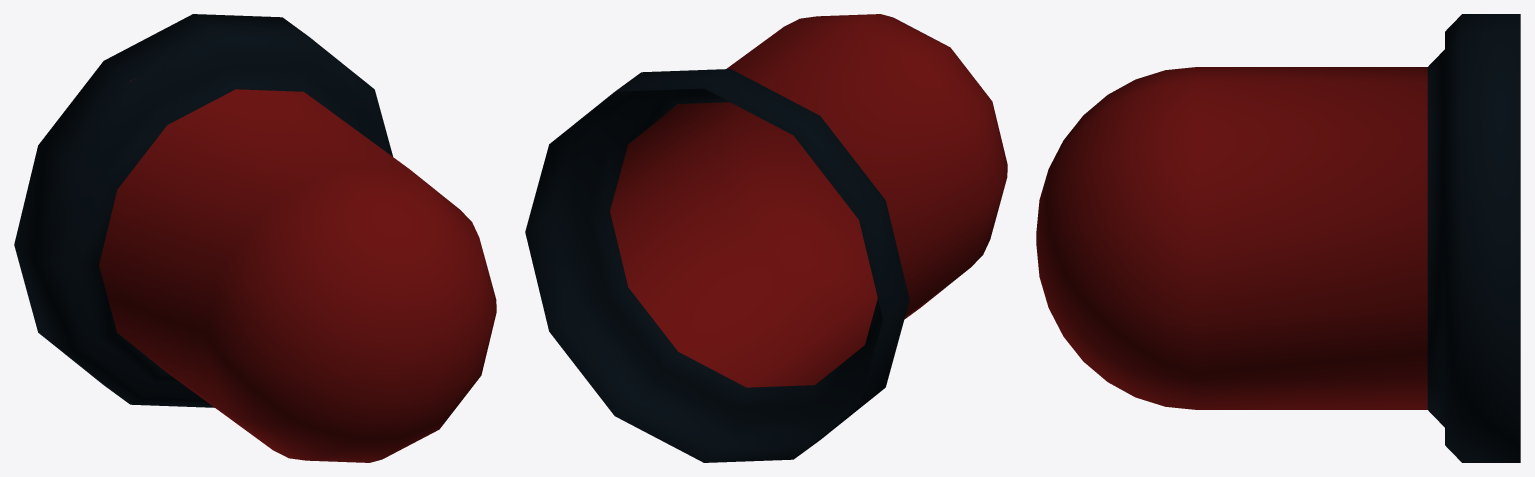
The model's file is alarm_light_1k.glb.
3 views of the same model, side by side, from view 1: azimuth 30°, elevation 25°; view 2: azimuth 150°, elevation 25°; view 3: azimuth 270°, elevation 25° (orthographic). The views are drawn at different scales.
Visible parts, largest first — view 1: TF2_FS_AlarmLight; view 2: TF2_FS_AlarmLight; view 3: TF2_FS_AlarmLight.
Boxes of the visible parts, bbox=[...] form: TF2_FS_AlarmLight: bbox=[14, 14, 496, 462]; TF2_FS_AlarmLight: bbox=[525, 14, 1007, 462]; TF2_FS_AlarmLight: bbox=[1036, 14, 1520, 462].
Size of the model in its own units: 15.01 by 15.01 by 16.13.
Materials: 1 (1 with a texture image).
